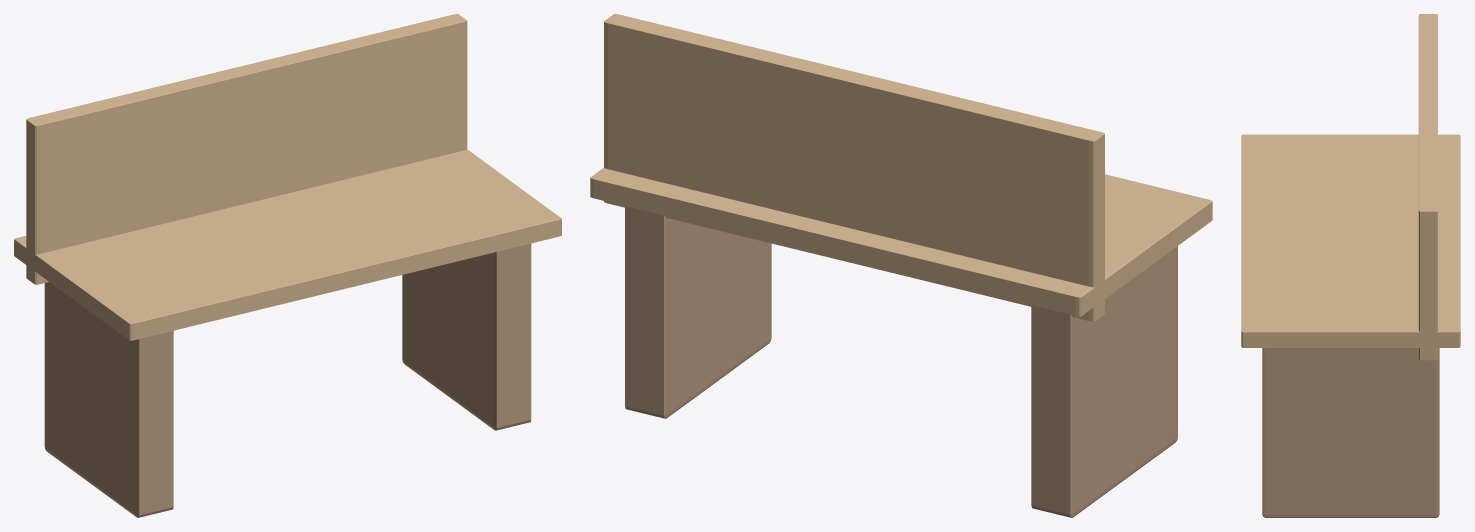
The model's file is bench.glb.
3 views of the same model, side by side, from view 1: azimuth 30°, elevation 25°; view 2: azimuth 150°, elevation 25°; view 3: azimuth 270°, elevation 25° (orthographic). The views are drawn at different scales.
Parts seen in each view (by area): view 1: BenchSlats, BenchSupport; view 2: BenchSlats, BenchSupport; view 3: BenchSlats, BenchSupport.
Boxes of the visible parts, x1,y1,x2,y2 form: BenchSlats: (14,14,561,340); BenchSupport: (44,243,531,517); BenchSlats: (590,14,1212,321); BenchSupport: (625,206,1177,517); BenchSlats: (1241,14,1460,360); BenchSupport: (1262,348,1439,517).
Bounding box in the file's own units: 1.45 × 1.08 × 0.68.
